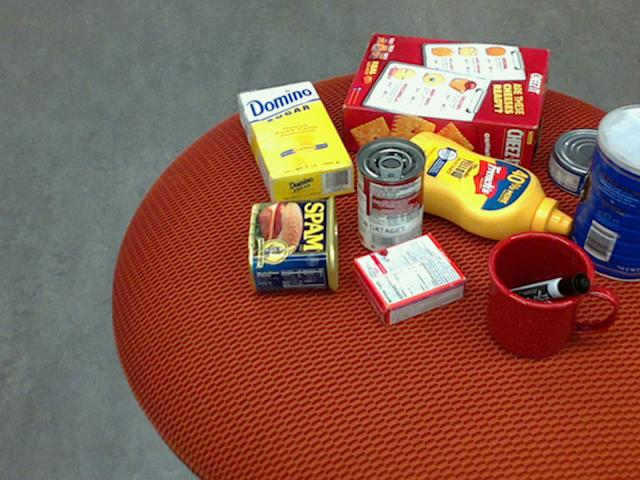cracker_box: (342, 31, 547, 169)
gelatin_box: (349, 234, 465, 327)
large_marker: (496, 271, 591, 309)
master_chef_can: (566, 104, 639, 282)
mug: (485, 230, 615, 358)
mustard_bottle: (383, 131, 571, 239)
potted_meat_can: (247, 194, 338, 291)
sugar_box: (236, 78, 354, 208)
tomato_soup_can: (355, 134, 425, 254)
tuna_fish_can: (546, 127, 630, 197)
